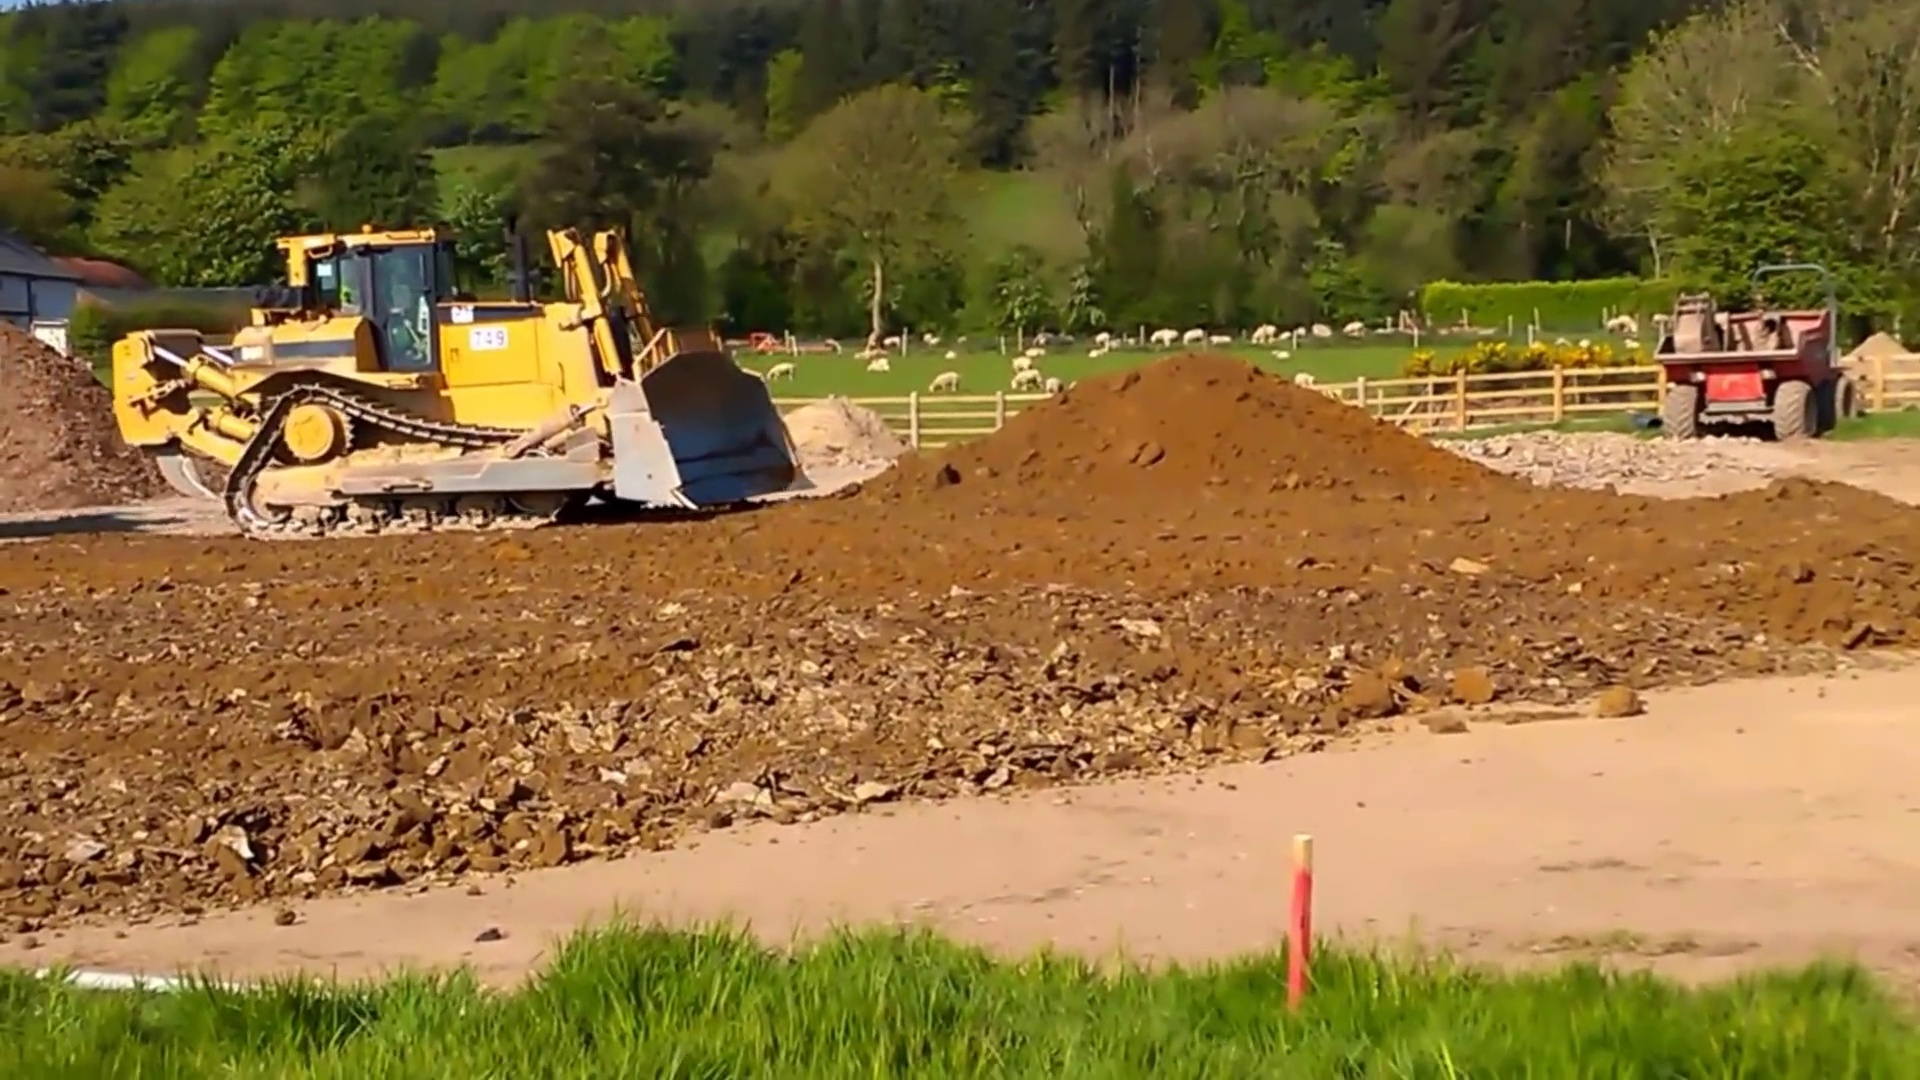bulldozer: (112, 220, 811, 535)
